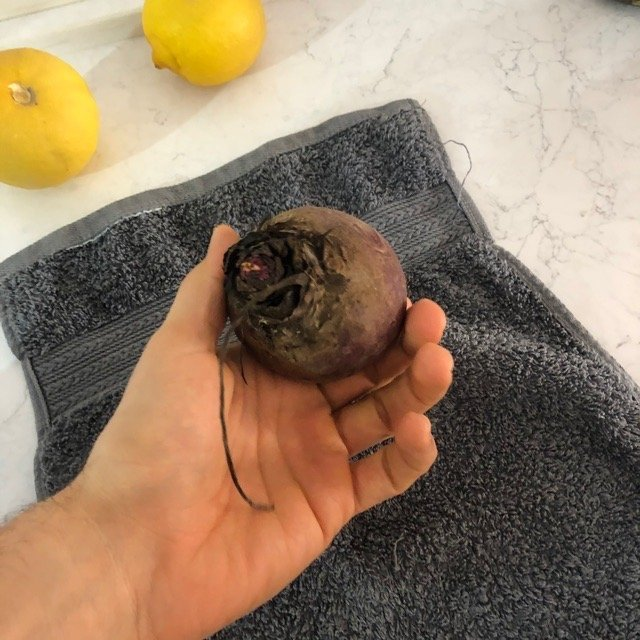beet: (224, 205, 409, 510)
